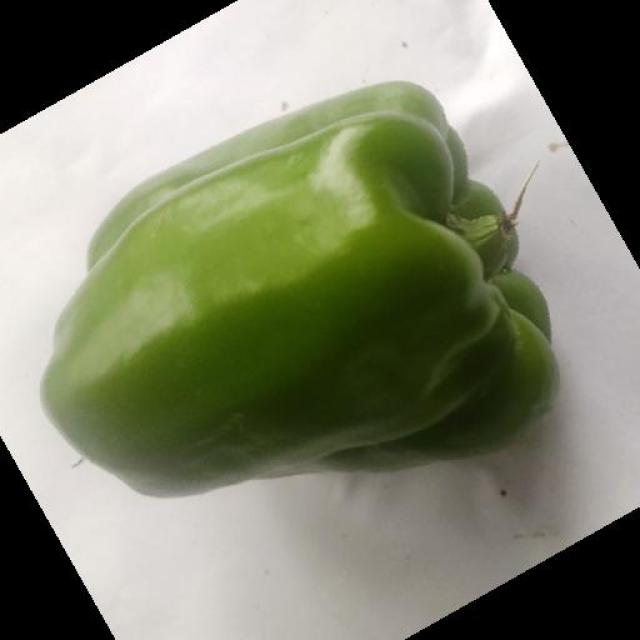Fresh_Capsicum: (63, 109, 565, 472)
